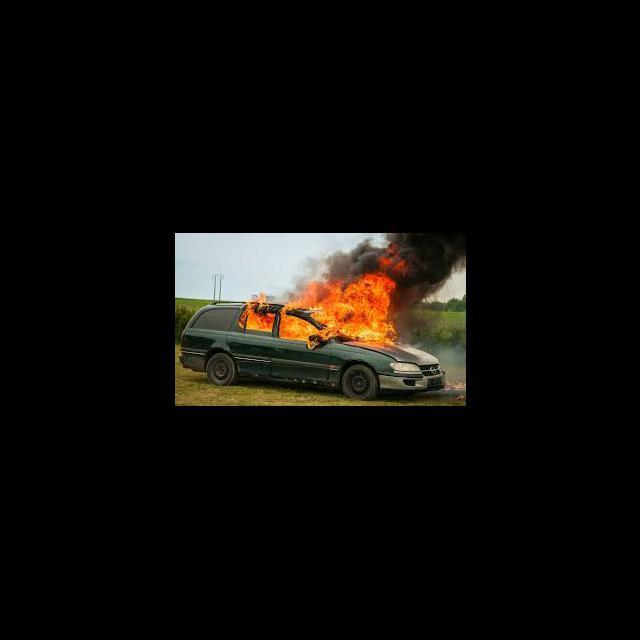Fire: (233, 274, 397, 349)
Smoke: (397, 274, 448, 340), (381, 234, 465, 272), (326, 242, 378, 272)
